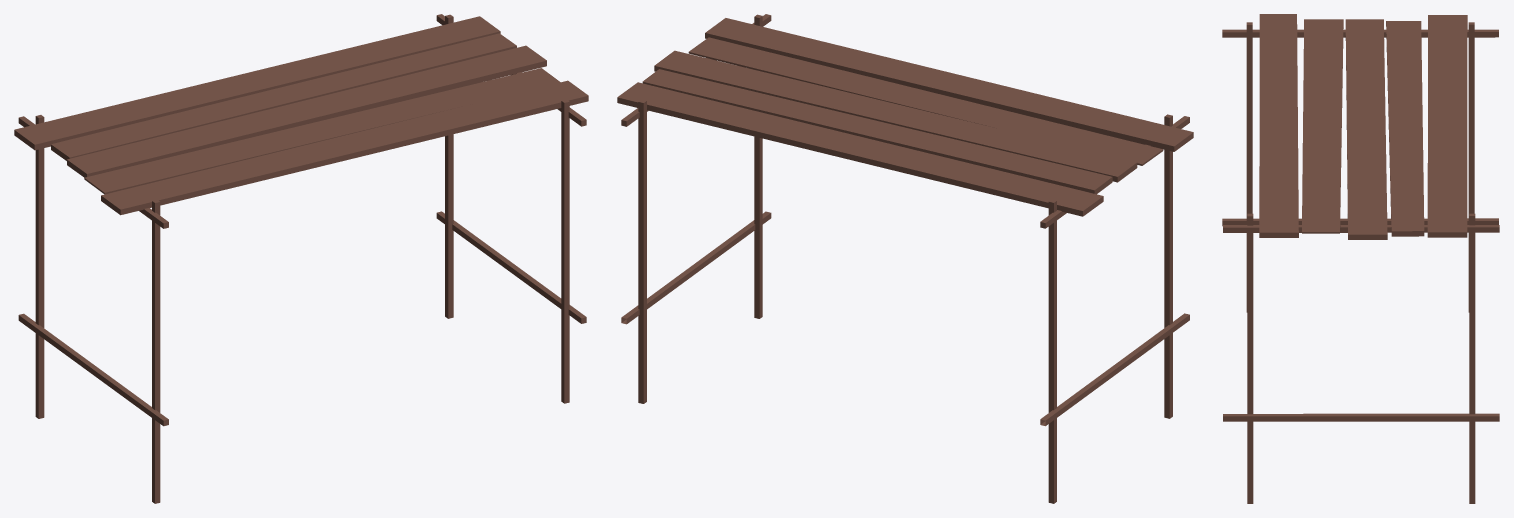
File: prop_040.fbx
3 renders of one model, left to right at view 1: azimuth 30°, elevation 25°; view 2: azimuth 150°, elevation 25°; view 3: azimuth 270°, elevation 25°, orthographic. The views are drawn at different scales.
Visible parts, largest first — view 1: prop.040; view 2: prop.040; view 3: prop.040.
Boxes of the visible parts, bbox=[...] form: prop.040: bbox=[14, 14, 588, 503]; prop.040: bbox=[617, 14, 1193, 503]; prop.040: bbox=[1222, 14, 1499, 503].
Bounding box in the file's own units: 718 × 436 × 381.
Materials: 1 (1 with a texture image).
